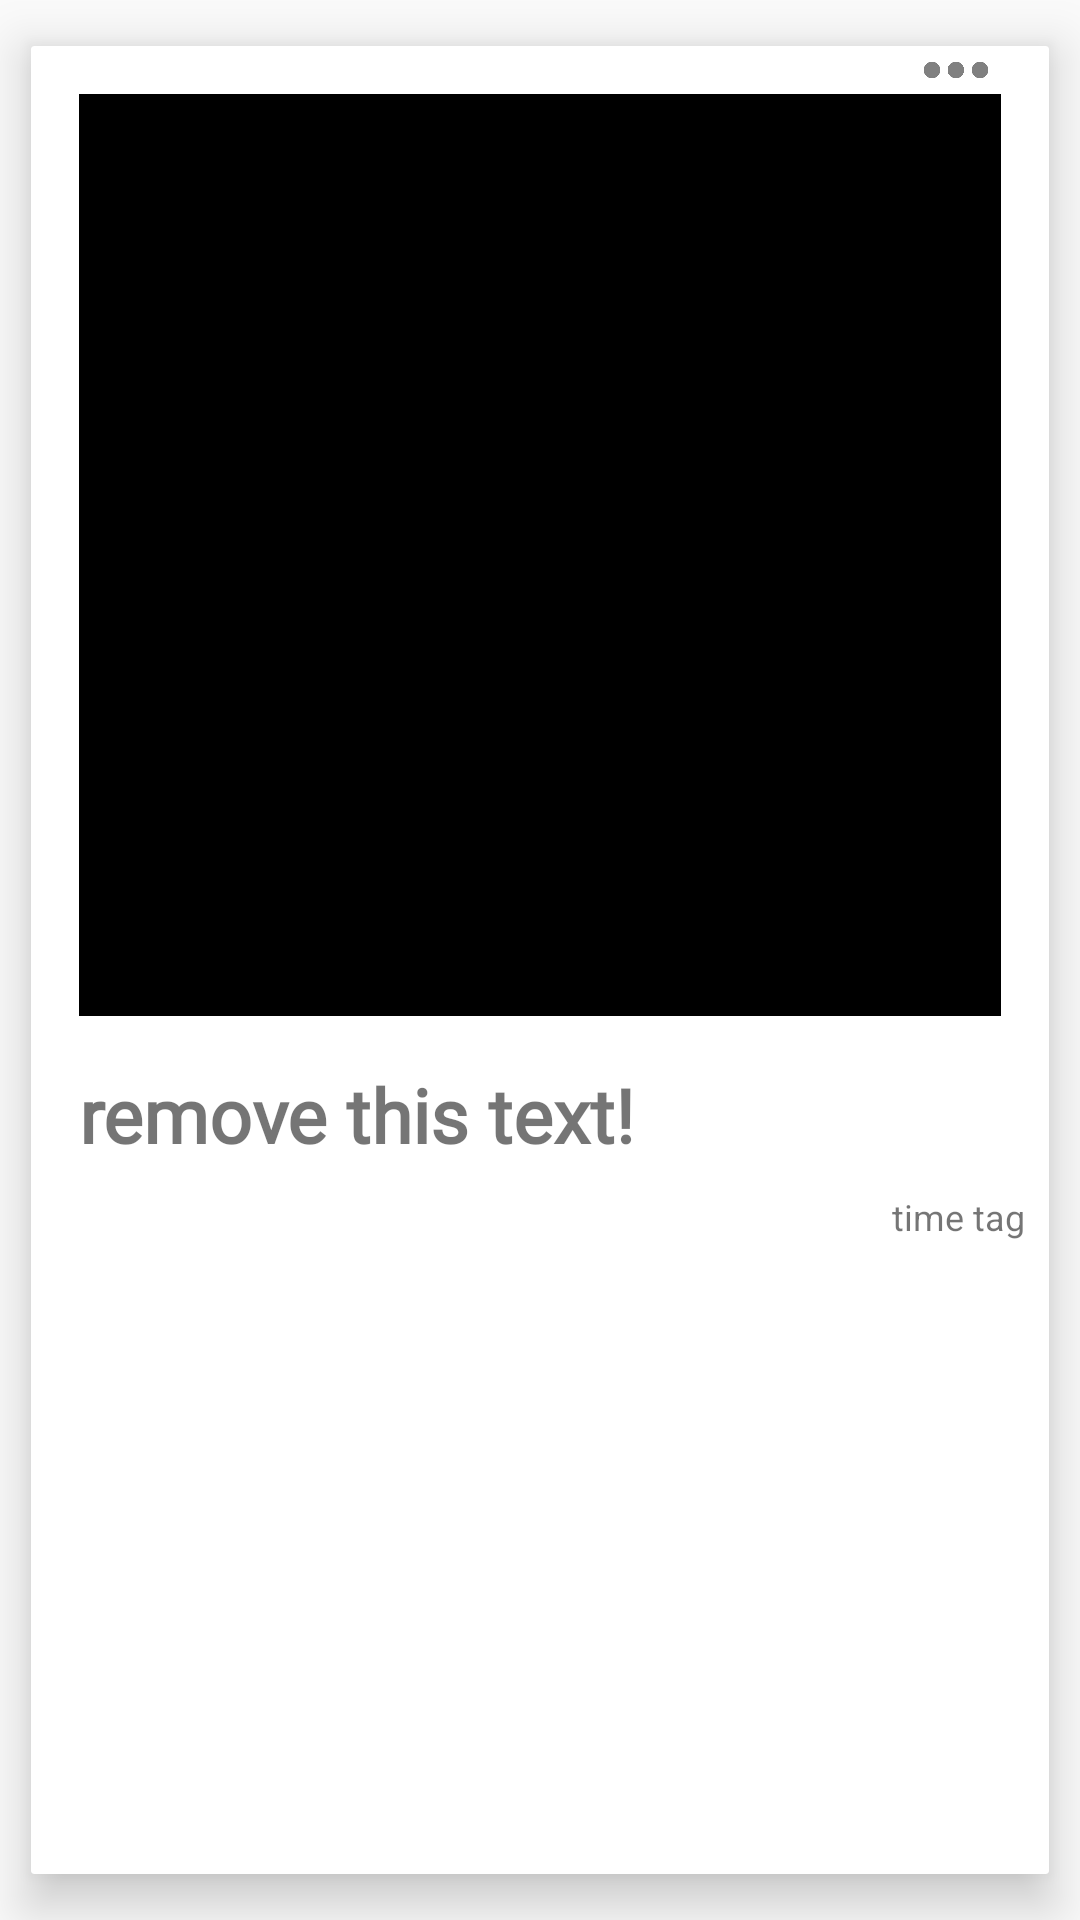

Where icons sit on this 1080px×1920px app screen, as bbox=(x1, y1, x2, y2):
moredots: bbox=(924, 62, 988, 78)
